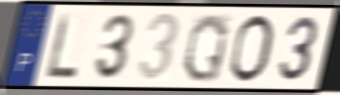3: (136, 11, 185, 85), (91, 12, 137, 82), (277, 14, 320, 84)
L: (45, 11, 80, 81)
O: (226, 13, 276, 85)
Q: (180, 11, 231, 84)
